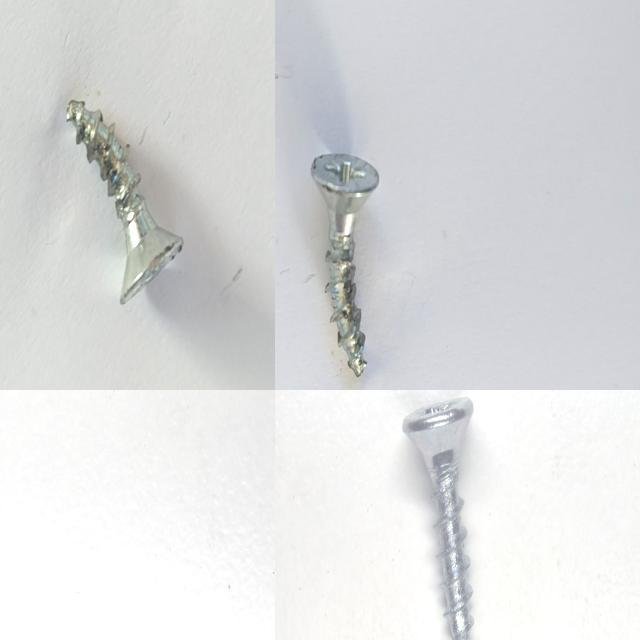Screw: (67, 100, 183, 304), (403, 396, 474, 640), (311, 153, 379, 376)
